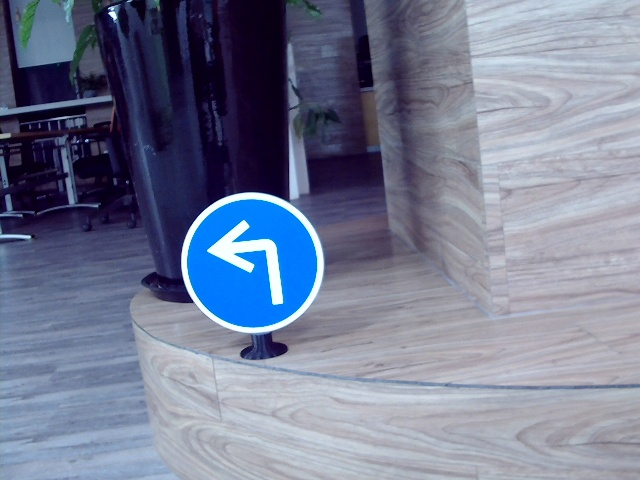turn_left: (206, 219, 285, 311)
